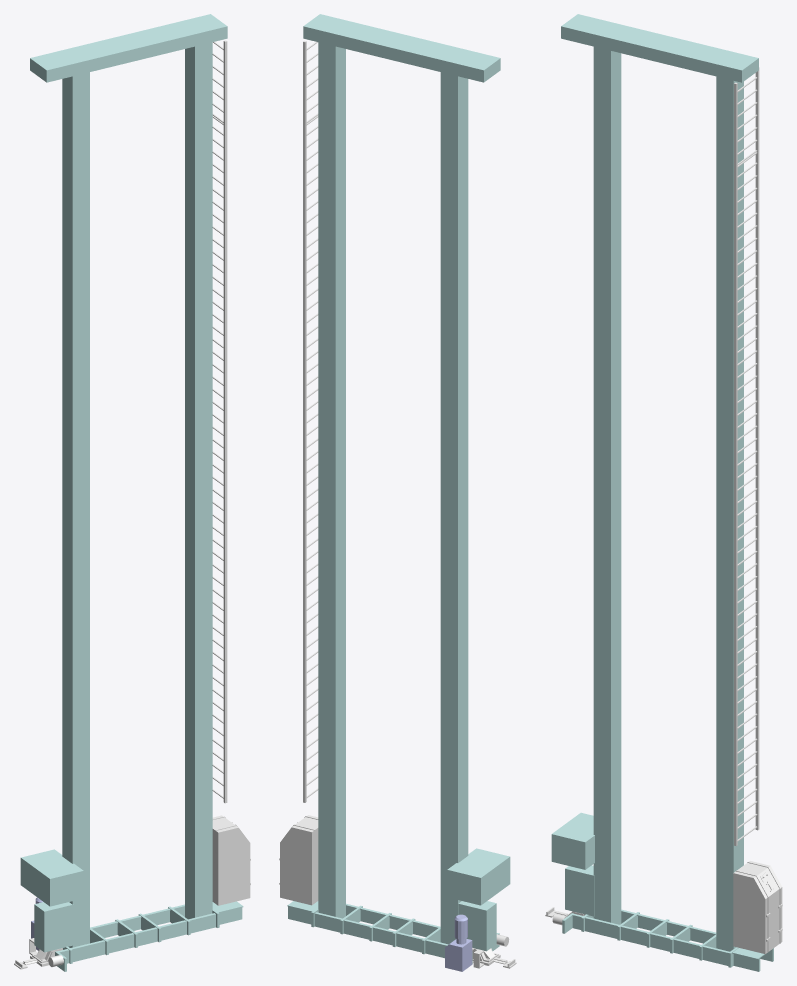
Rendered from 堆垛机.glb.
3 views of the same model, side by side, from view 1: azimuth 30°, elevation 25°; view 2: azimuth 150°, elevation 25°; view 3: azimuth 330°, elevation 25° (orthographic).
Parts seen in each view (by area): view 1: 堆垛机; view 2: 堆垛机; view 3: 堆垛机.
Boxes of the visible parts, bbox=[...] form: 堆垛机: bbox=[14, 14, 250, 971]; 堆垛机: bbox=[279, 14, 516, 971]; 堆垛机: bbox=[545, 14, 782, 971].
Size of the model in its own units: 2.6 by 9.86 by 0.7064.
